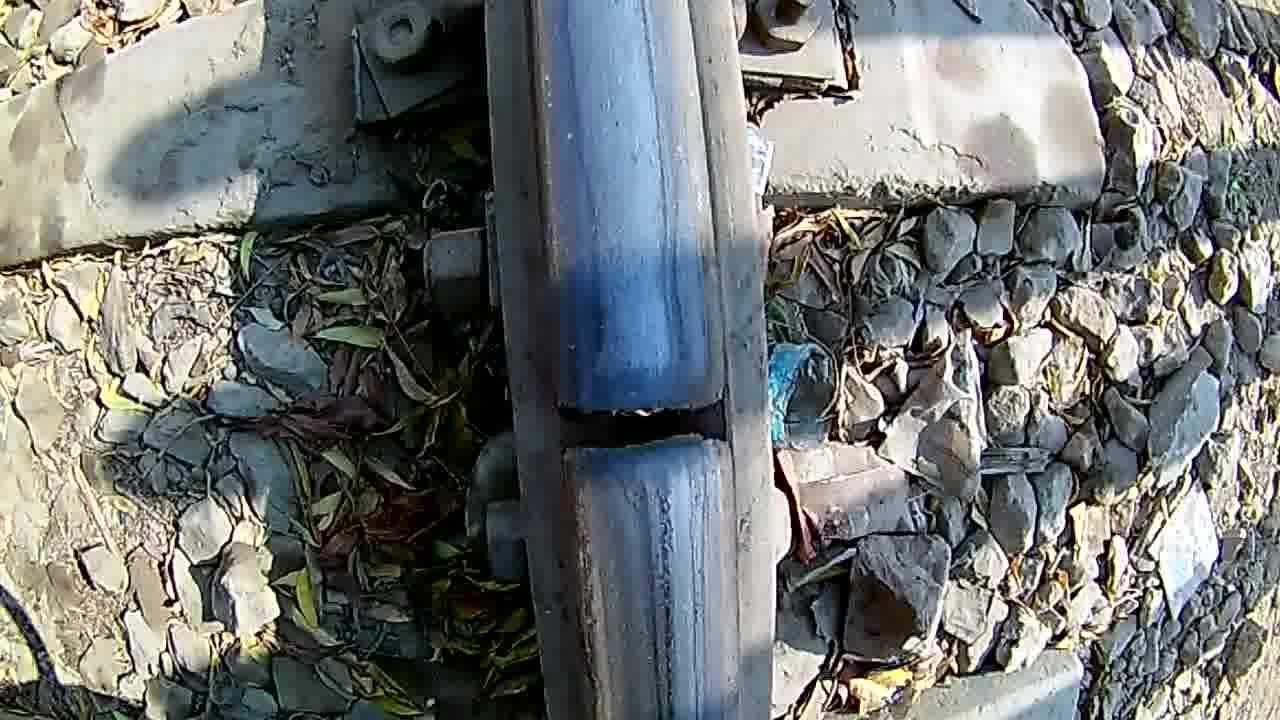crack: (533, 323, 756, 552)
